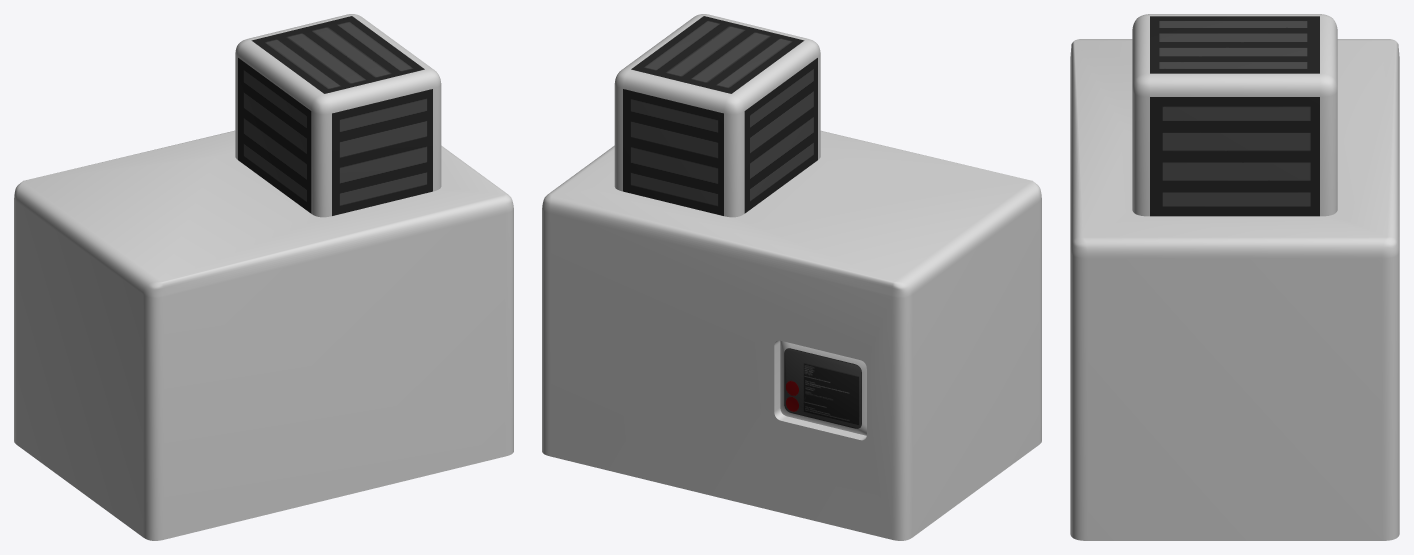
The model's file is Oxygen machine.FBX.
The picture shows the model from 3 angles, left to right: view 1: azimuth 30°, elevation 25°; view 2: azimuth 150°, elevation 25°; view 3: azimuth 270°, elevation 25°; orthographic projection. The views are drawn at different scales.
Parts seen in each view (by area): view 1: Box001; view 2: Box001; view 3: Box001.
Boxes of the visible parts, x1=… form: Box001: x1=14, y1=14, x2=513, y2=540; Box001: x1=542, y1=14, x2=1041, y2=540; Box001: x1=1070, y1=14, x2=1399, y2=540.
Size of the model in its own units: 118 by 114 by 78.74.
